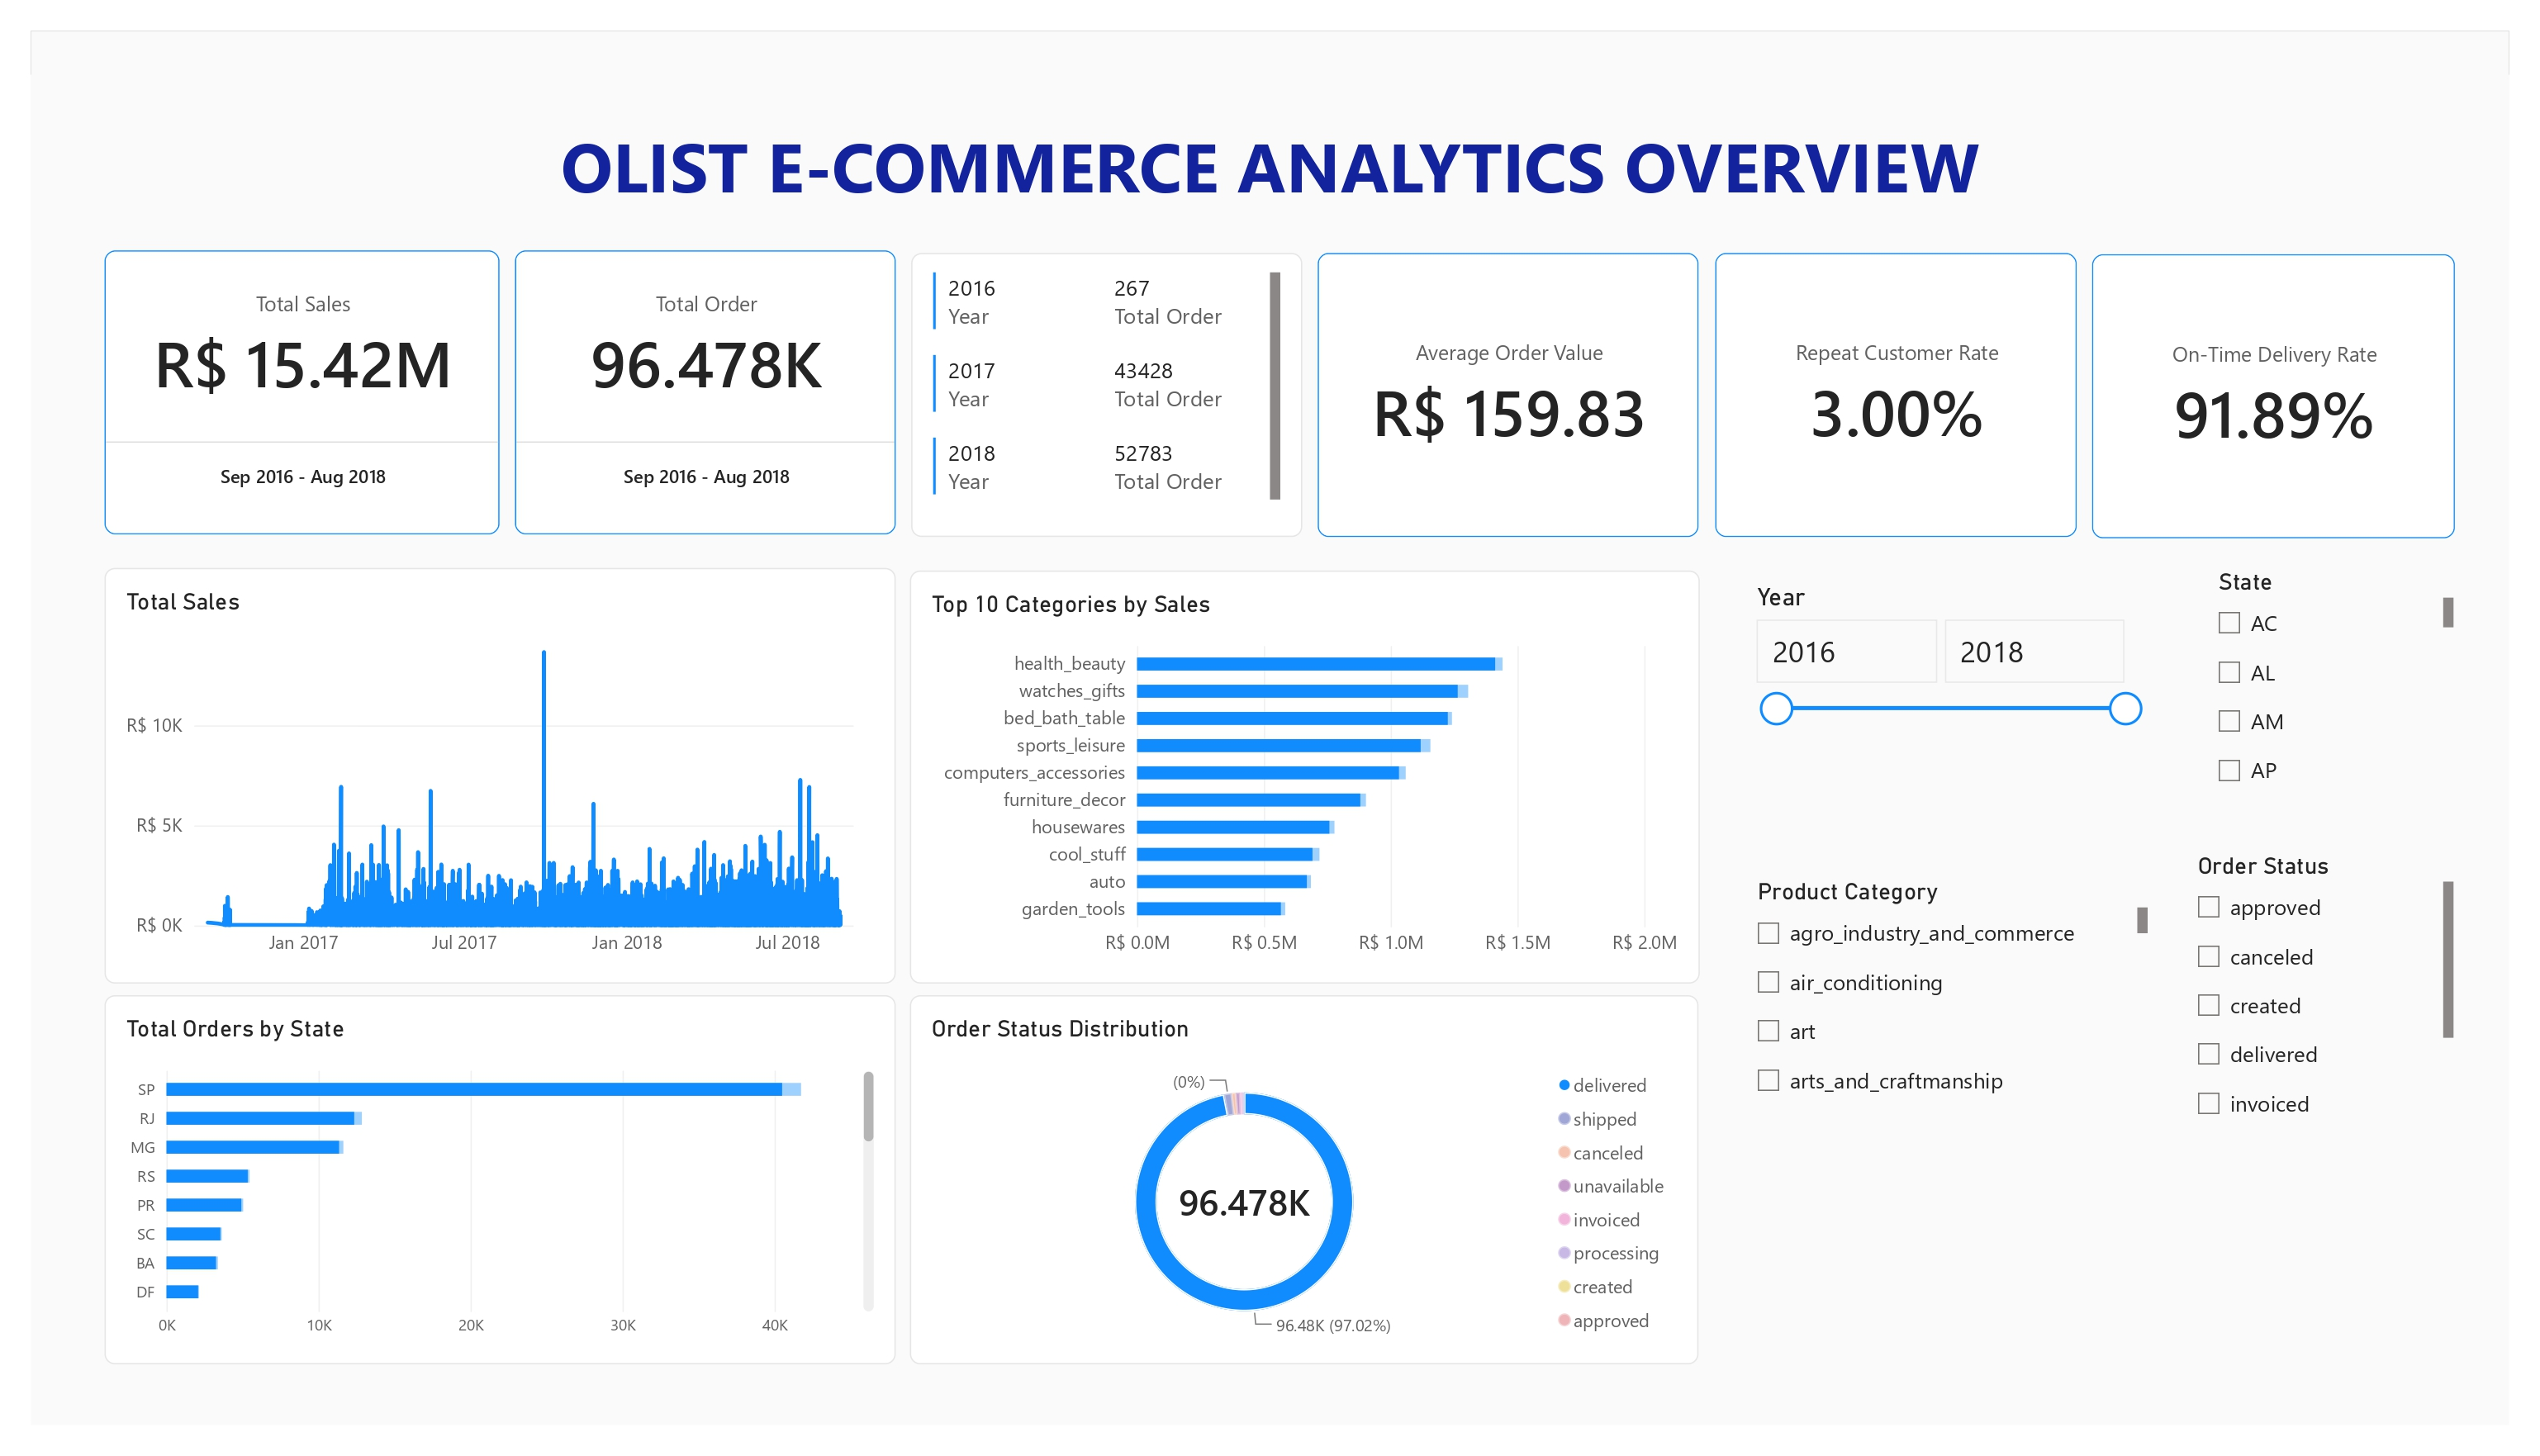

The dashboard page shown, as its layout file describes it:
{"tool":"powerbi","page":{"name":"Page 1","canvas":[1920,1080],"ordinal":0},"visuals":[{"type":"cardVisual","fields":{"Data":["CountNonNull(public orders.order_id)"]},"box":[375,170,295,220],"z":1},{"type":"cardVisual","fields":{"Data":["public order_items.Total Revenue"]},"box":[56.7,170,306.7,220],"z":2},{"type":"cardVisual","fields":{"Data":["public order_items.Average Order Value"]},"box":[996.7,172.2,295.6,220],"z":3},{"type":"multiRowCard","fields":{"Values":["public orders.Order Year","public orders.order_id"]},"box":[681.7,171.7,303.3,220],"z":5},{"type":"cardVisual","fields":{"Data":["public orders.On-Time Delivery Rate"]},"box":[1596.7,173.3,281.7,220],"z":6},{"type":"cardVisual","fields":{"Data":["public customers.Repeat Customer Rate"]},"box":[1305,171.7,280,220],"z":7},{"type":"textbox","box":[0,66.7,1920,93.3],"z":8},{"type":"lineChart","title":"Total Sales","fields":{"Category":["public orders.order_purchase_timestamp"],"Y":["public order_items.Total Revenue"]},"box":[57.1,416.2,612.9,321.4],"z":9},{"type":"barChart","title":"Top 10 Categories by Sales","fields":{"Category":["public product_category_name_translation.product_category_name_english"],"Y":["public order_items.Total Revenue"]},"box":[681.4,417.6,611.4,320],"z":10},{"type":"barChart","title":"Total Orders by State","fields":{"Category":["public customers.customer_state"],"Y":["public orders.Total Orders"]},"box":[57,747.3,613,286],"z":11},{"type":"donutChart","title":"Order Status Distribution","fields":{"Category":["public orders.order_status"],"Y":["Count(public orders.order_id)"]},"box":[681,747,611,286],"z":12},{"type":"slicer","fields":{"Values":["public orders.Order Year"]},"box":[1328.6,427.1,310,150],"z":13},{"type":"slicer","fields":{"Values":["public customers.customer_state"]},"box":[1687.1,415.7,190,177.1],"z":14},{"type":"slicer","fields":{"Values":["public product_category_name_translation.product_category_name_english"]},"box":[1330,655.7,310,178.6],"z":15},{"type":"slicer","fields":{"Values":["public orders.order_status"]},"box":[1671.4,635.7,205.7,214.3],"z":16}]}

Visuals, with their boxes on the page's 1920x1080 design canvas (x1, y1, x2, y2). These are canvas units, not pixel positions in the 2540x1456 screenshot, which may show the page scaled, cropped or inside an application window:
cardVisual - CountNonNull(public orders.order_id): <bbox>375, 170, 670, 390</bbox>
cardVisual - public order_items.Total Revenue: <bbox>57, 170, 363, 390</bbox>
cardVisual - public order_items.Average Order Value: <bbox>997, 172, 1292, 392</bbox>
multiRowCard - public orders.Order Year x public orders.order_id: <bbox>682, 172, 985, 392</bbox>
cardVisual - public orders.On-Time Delivery Rate: <bbox>1597, 173, 1878, 393</bbox>
cardVisual - public customers.Repeat Customer Rate: <bbox>1305, 172, 1585, 392</bbox>
textbox: <bbox>0, 67, 1920, 160</bbox>
"Total Sales" lineChart: <bbox>57, 416, 670, 738</bbox>
"Top 10 Categories by Sales" barChart: <bbox>681, 418, 1293, 738</bbox>
"Total Orders by State" barChart: <bbox>57, 747, 670, 1033</bbox>
"Order Status Distribution" donutChart: <bbox>681, 747, 1292, 1033</bbox>
slicer - public orders.Order Year: <bbox>1329, 427, 1639, 577</bbox>
slicer - public customers.customer_state: <bbox>1687, 416, 1877, 593</bbox>
slicer - public product_category_name_translation.product_category_name_english: <bbox>1330, 656, 1640, 834</bbox>
slicer - public orders.order_status: <bbox>1671, 636, 1877, 850</bbox>
